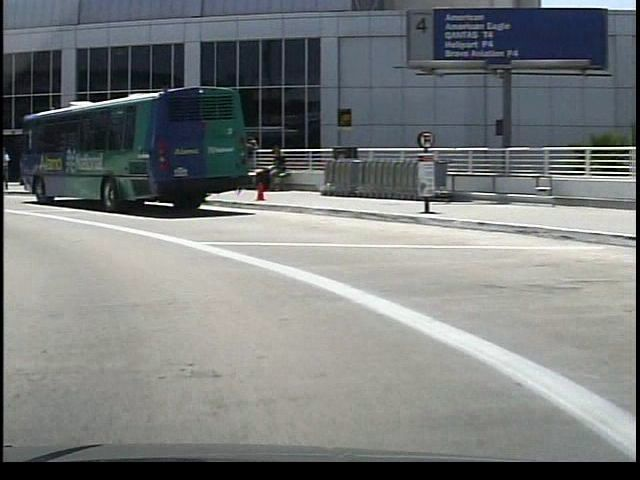person: (254, 144, 282, 196)
